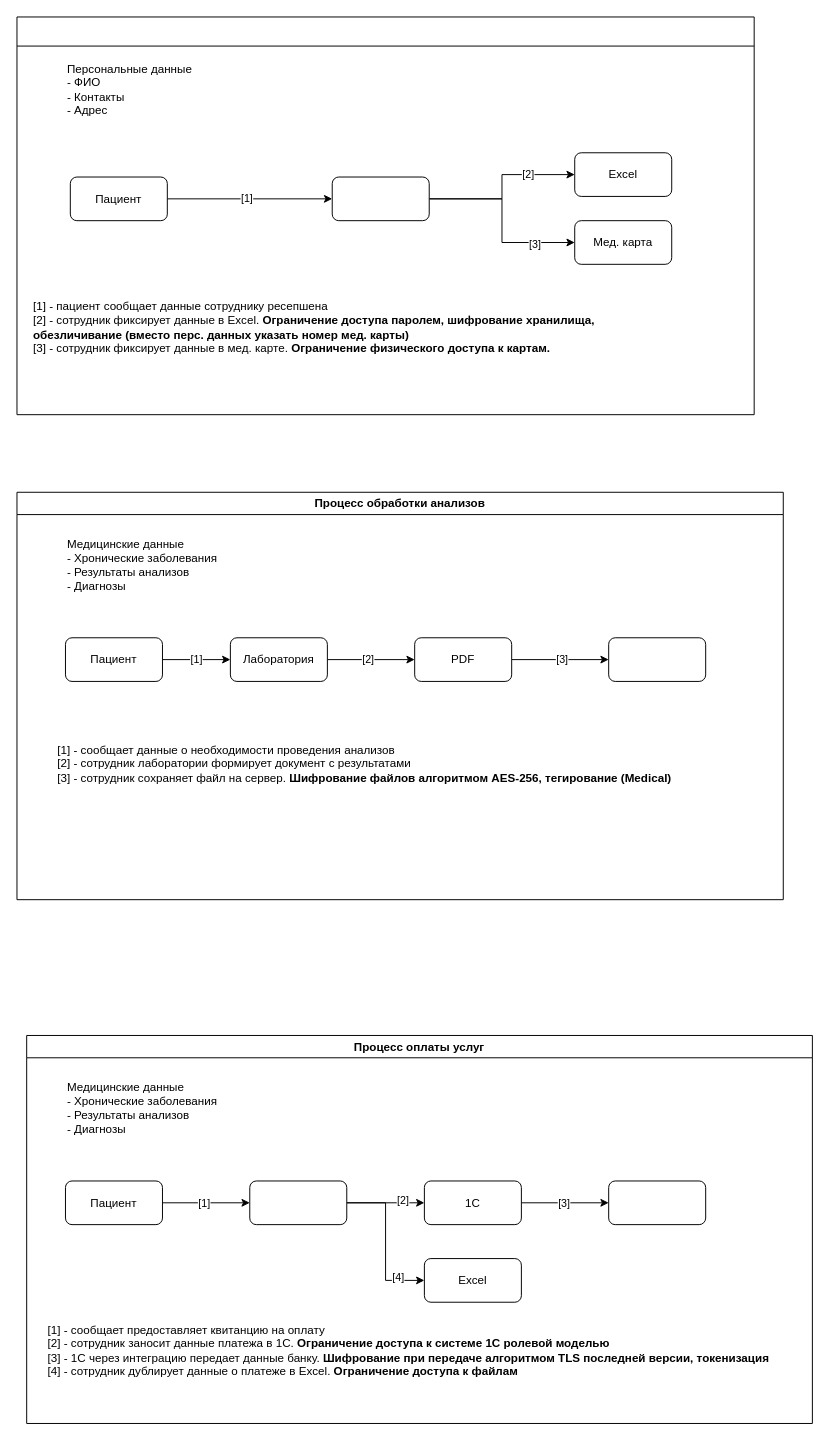
The diagram is 829 pixels wide and 1440 high, and some of its shapes have lost their labels. Each missing label, with the box of its shape:
Банковская система: (608, 1180, 706, 1225)
Касса: (249, 1180, 347, 1225)
Процесс записи на приём: (16, 16, 754, 415)
Ресепшен: (331, 176, 429, 221)
Файловый сервер: (608, 637, 706, 681)
